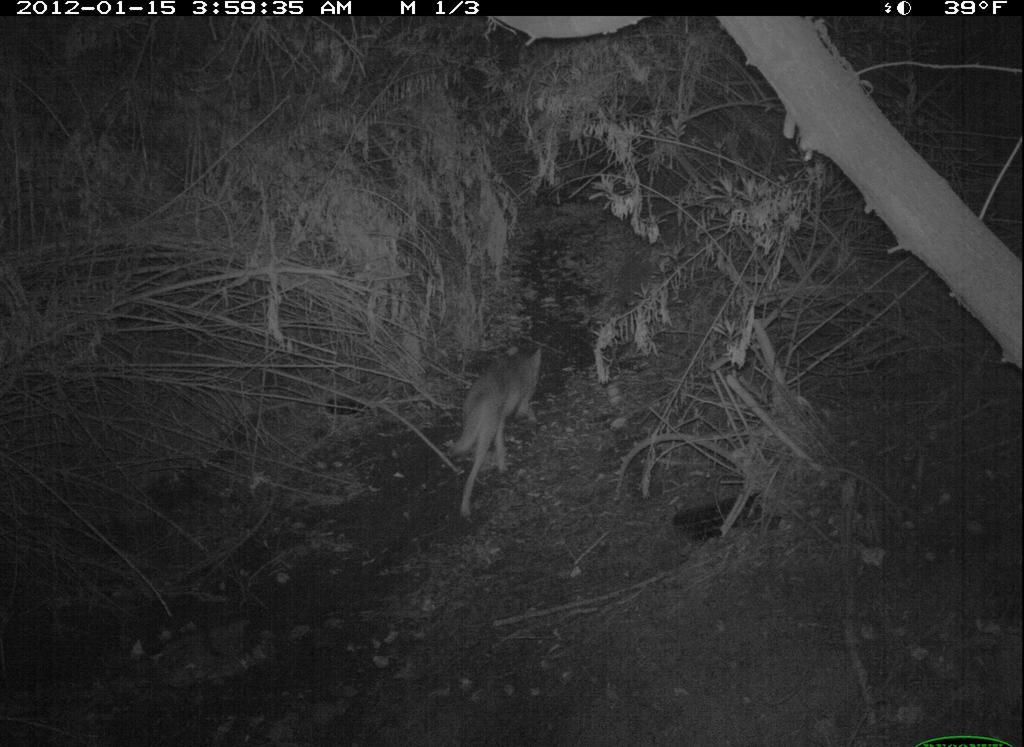coyote: (434, 329, 574, 515)
